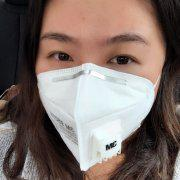OK: (34, 21, 172, 159)
